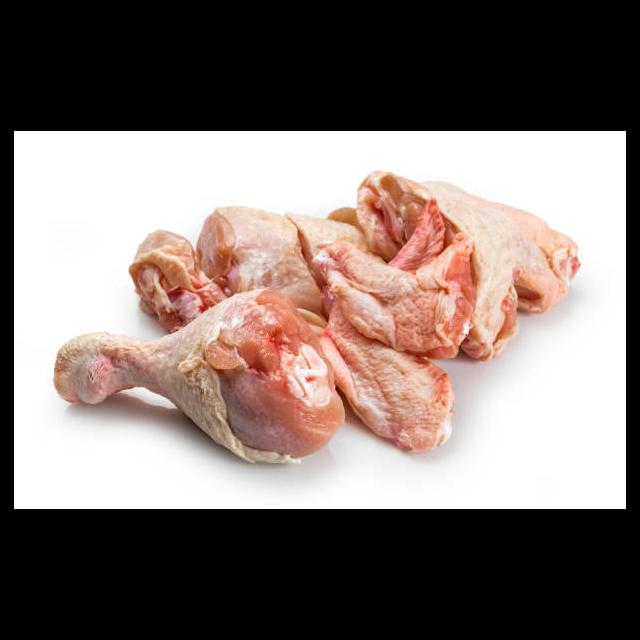chicken: (196, 206, 458, 451), (54, 291, 345, 468), (352, 168, 583, 359)
